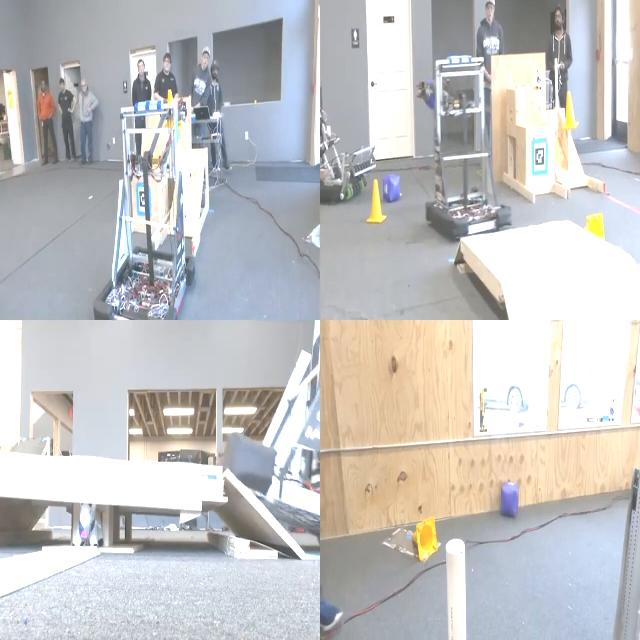frc_cone: (413, 511, 443, 573), (582, 209, 610, 251), (364, 178, 384, 233), (161, 88, 181, 134), (563, 84, 579, 134)
frc_cube: (499, 472, 521, 522), (383, 168, 404, 210)
